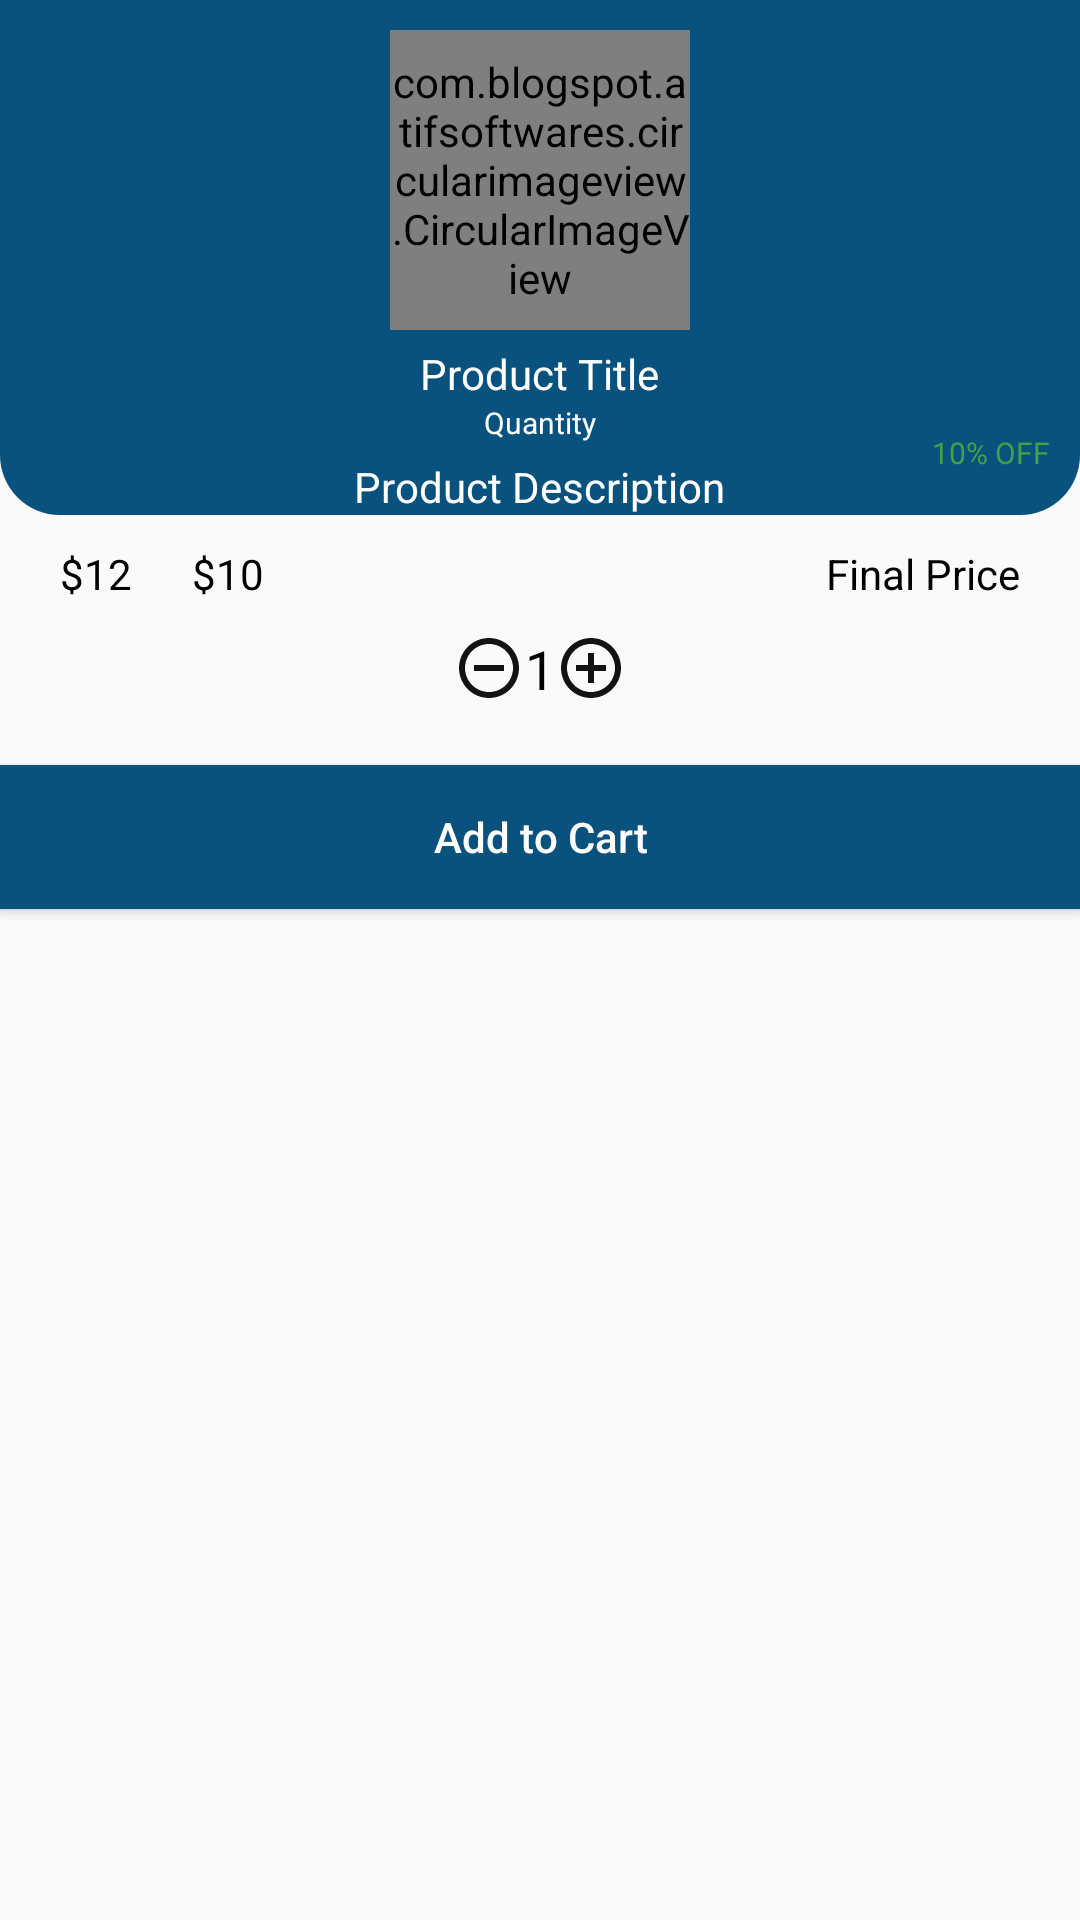

Icons on this 1080w x 1920h Android screen, each with its box as (x1, y1, x2, y2):
remove: (459, 638, 519, 698)
